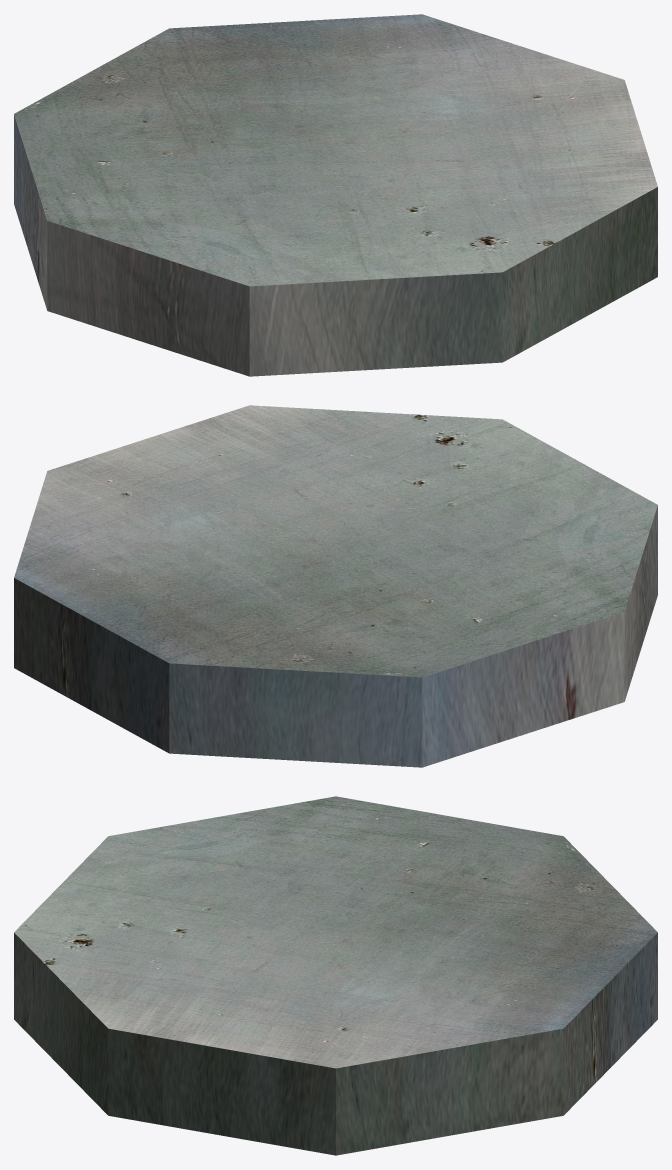
Rendered from tapa.fbx.
The picture shows the model from 3 angles, top to bottom: view 1: azimuth 30°, elevation 25°; view 2: azimuth 150°, elevation 25°; view 3: azimuth 270°, elevation 25°; orthographic projection. The views are drawn at different scales.
Parts seen in each view (by area): view 1: Matraz.001; view 2: Matraz.001; view 3: Matraz.001.
Part boxes in pixels (box(x1,y1,x2,y2)): Matraz.001: box(14, 14, 657, 376); Matraz.001: box(14, 405, 657, 767); Matraz.001: box(14, 796, 657, 1155).
Bounding box in the file's own units: 143 × 21.34 × 143.
